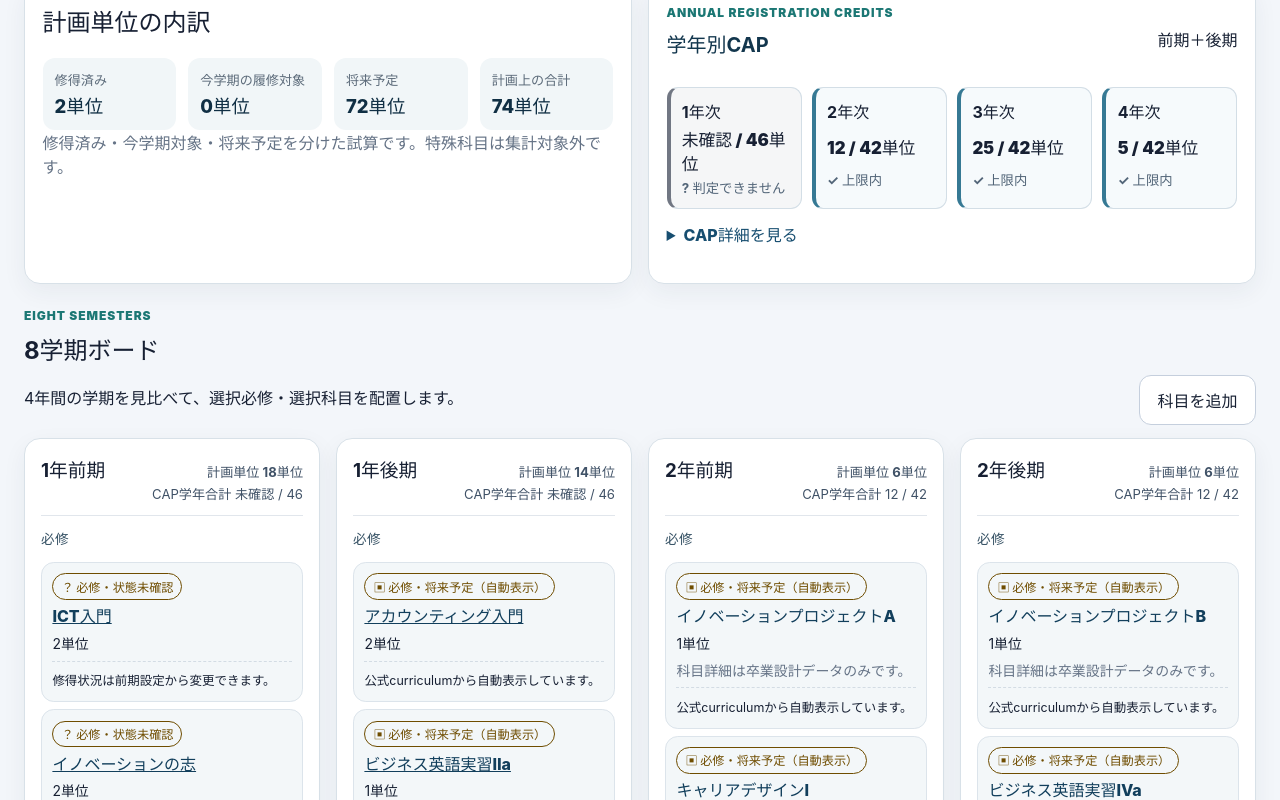
Test: Phase 11C graduation planning UI › 前期修得済み科目は重複配置できず、理由を表示する
(page scrolled)
Click the button "科目を追加" at point(1197, 400), box top-left (1139, 376), bottom-right (1256, 426)
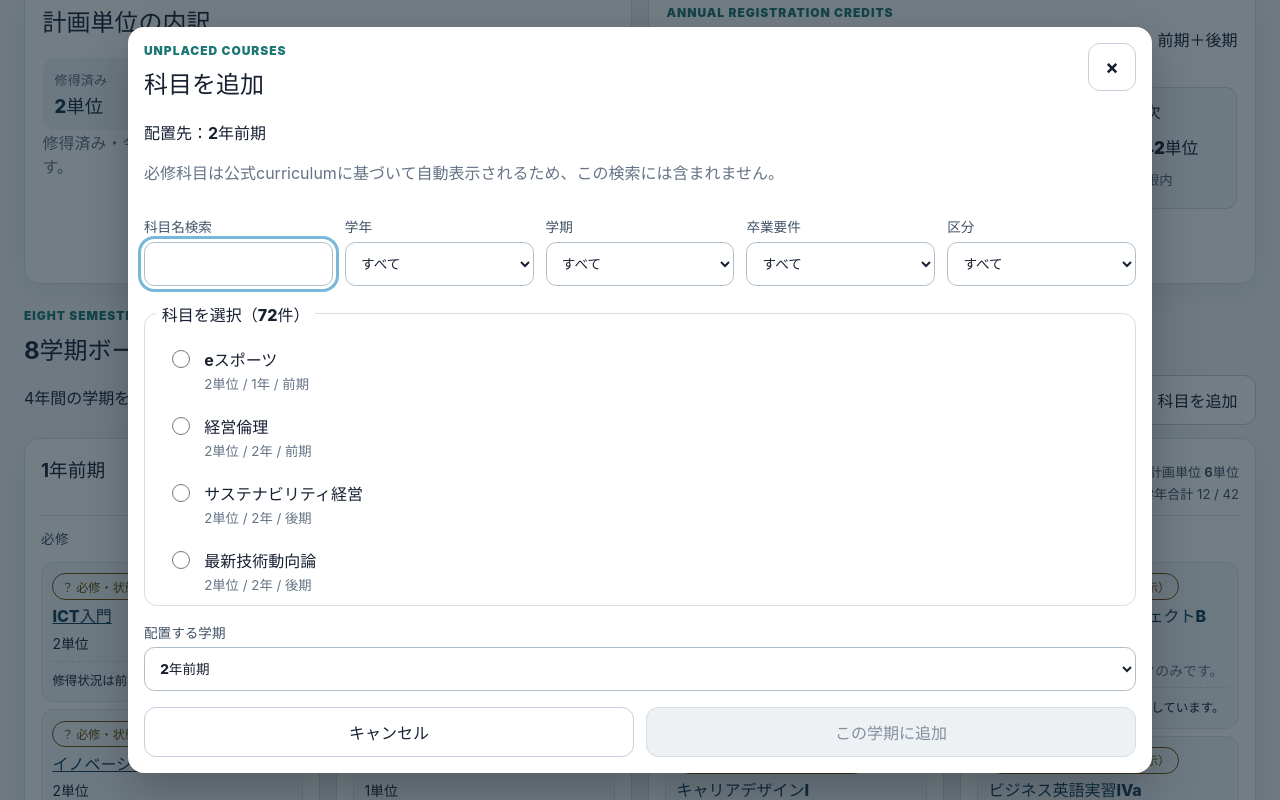
Type "スタディスキル" into the search field labelled "科目名検索" at point(238, 264), box top-left (144, 242), bottom-right (333, 286)
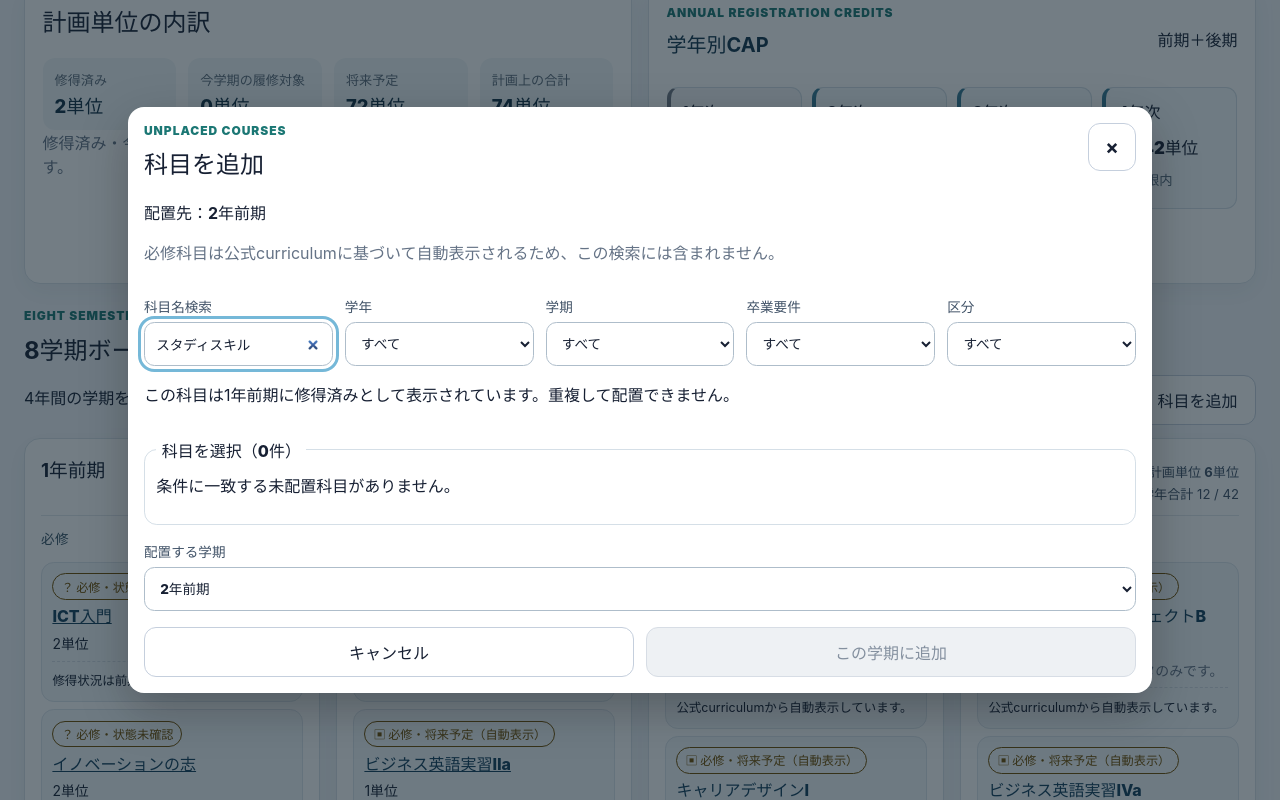
Result: the button "この学期に追加" is disabled at top-left (646, 627), bottom-right (1136, 677)
Result: the text "この科目は1年前期に修得済みとして表示されています。重複して配置できません。" is shown at top-left (144, 385), bottom-right (739, 405)
